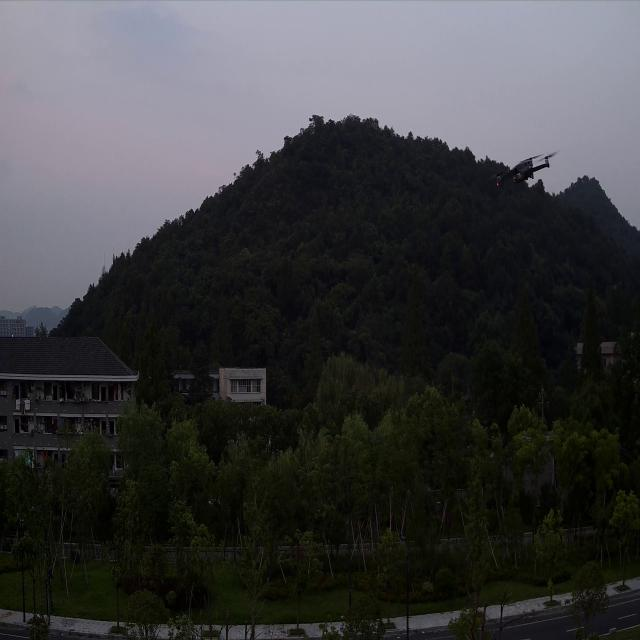UAV: (495, 152, 552, 190)
